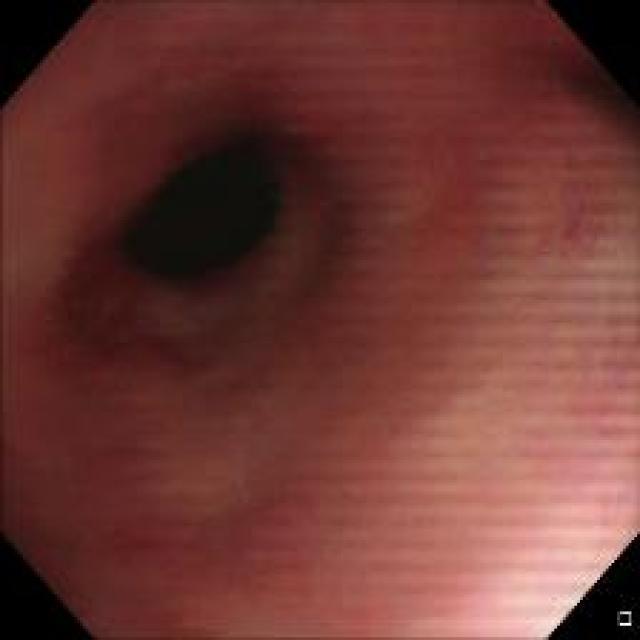contrast: (85, 100, 294, 315)
